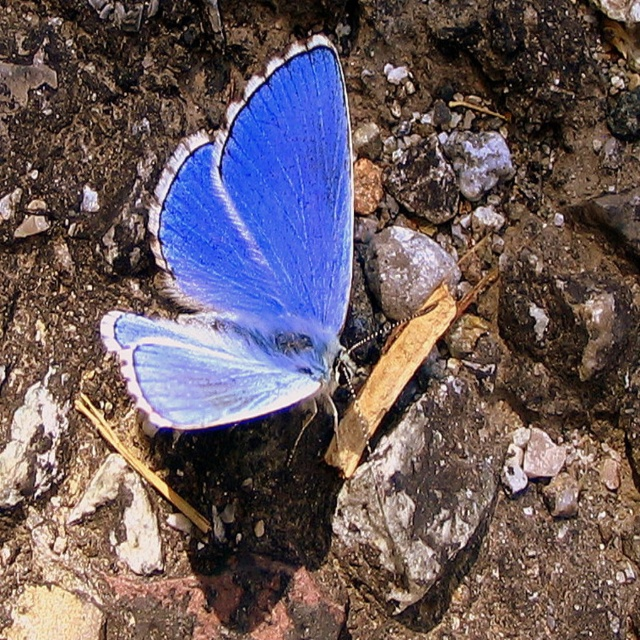Butterfly: (99, 34, 440, 546)
